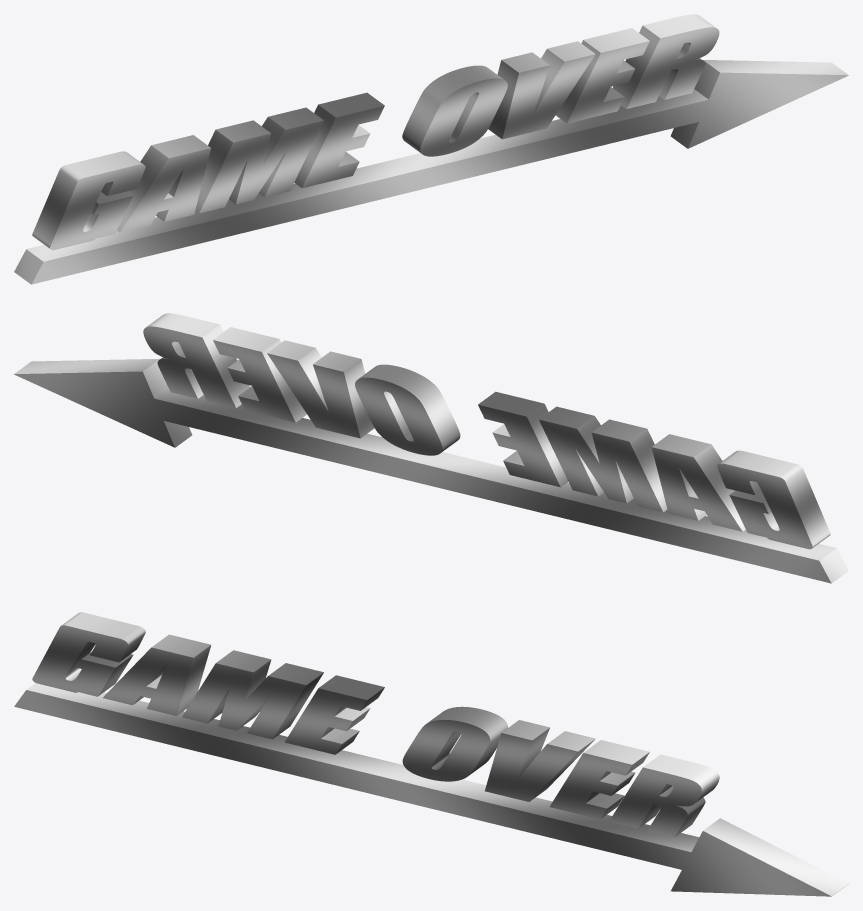
Rendered from GameOverText.FBX.
3 renders of one model, top to bottom at view 1: azimuth 30°, elevation 25°; view 2: azimuth 150°, elevation 25°; view 3: azimuth 330°, elevation 25°, orthographic.
Visible parts, largest first — view 1: Text006, Box001; view 2: Text006, Box001; view 3: Text006, Box001.
Part boxes in pixels (x1,y1,x2,y2): Text006: (32,14,719,250); Box001: (14,60,848,284); Text006: (143,313,830,549); Box001: (14,358,848,583); Text006: (32,612,719,837); Box001: (14,683,848,896).
Size of the model in its own units: 887 by 123 by 33.41.
